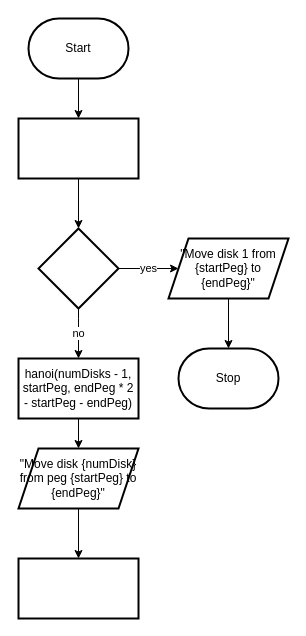
Image size: 306x636. Some labels were removed from this diagram. The shapes that lost their labels are listed below. From the top down, each one's centre as x and y in pixels, then its label:
At pixel 78 148: "pegNumber = 6".
At pixel 78 268: "if numDisks == 1".
At pixel 78 588: "hanoi(numDisks - 1, pegNumber - startPeg - endPeg, endPeg)".
